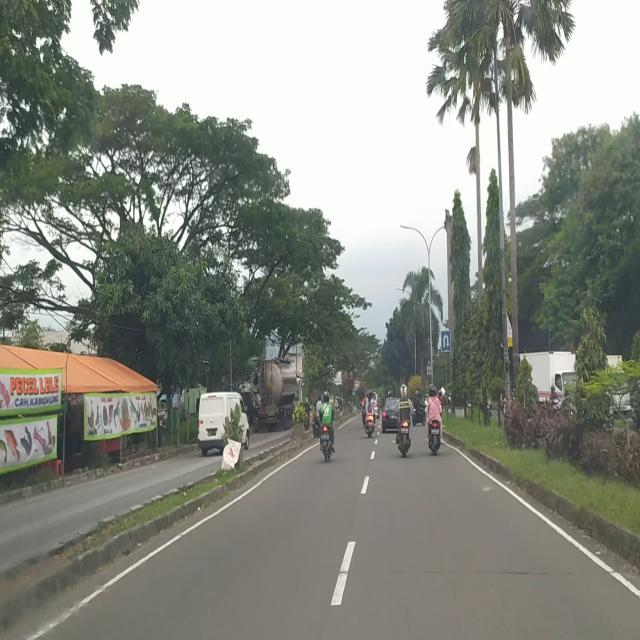Sewer Cover: (346, 561, 611, 577)
